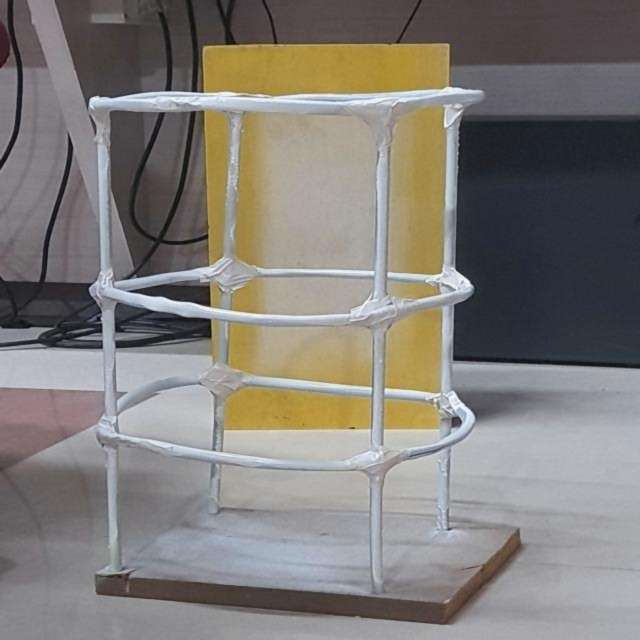silo: (69, 85, 483, 578)
